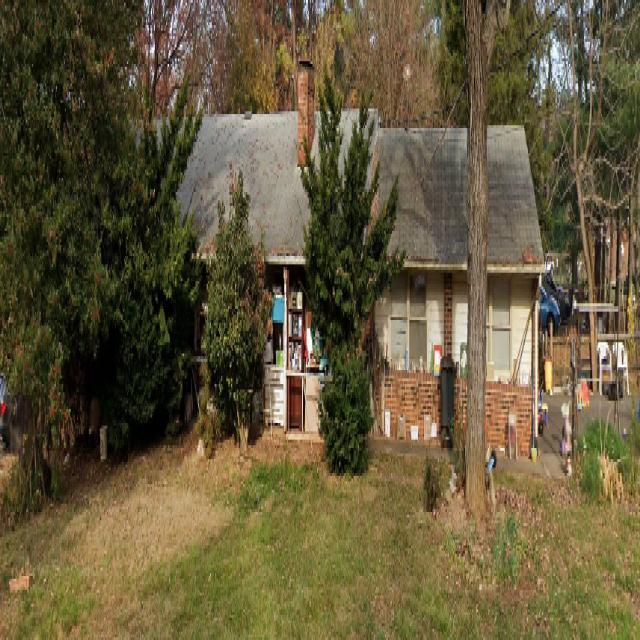House: (128, 55, 546, 461)
